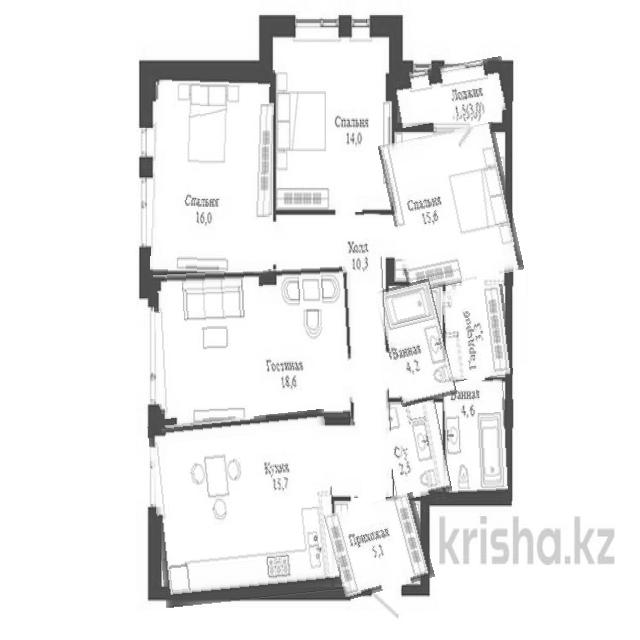balcony: (390, 61, 509, 125)
bathroom: (380, 281, 451, 404), (444, 380, 507, 498), (384, 401, 448, 498)
hallway: (343, 212, 391, 498), (329, 497, 431, 595)
kitchen: (151, 414, 338, 604)
living_room: (155, 267, 355, 427), (152, 67, 274, 276), (274, 22, 394, 210), (385, 127, 517, 288)
other: (444, 286, 511, 380)
